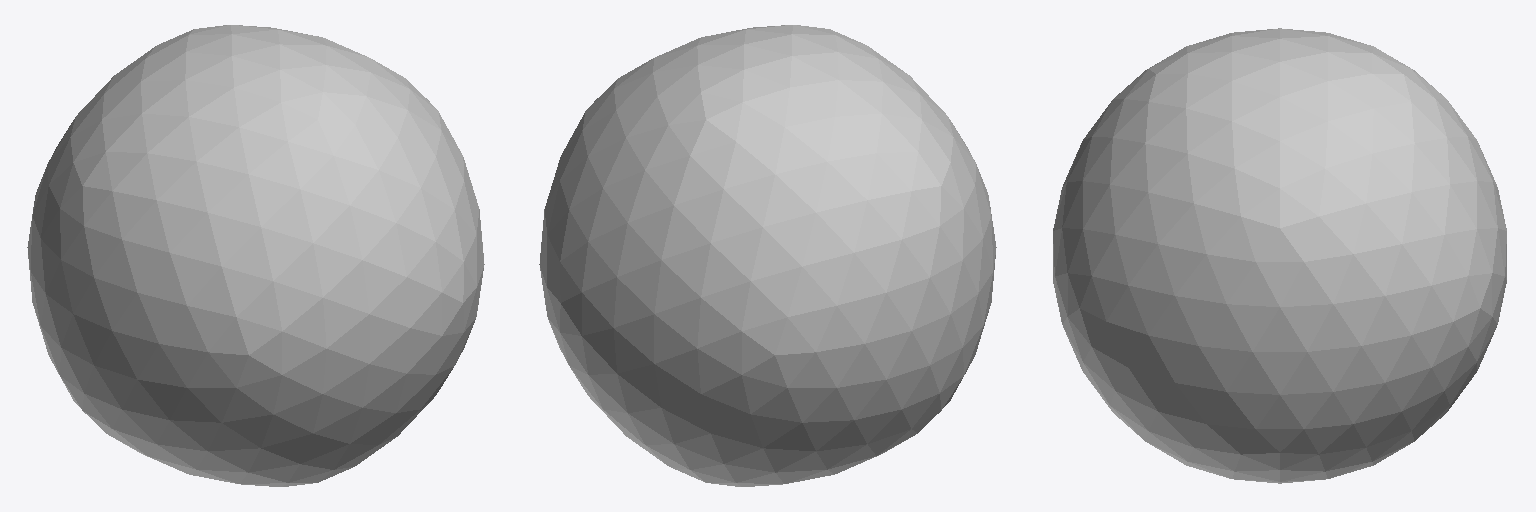
The model's file is sphere_smoothed_90.obj.
The picture shows the model from 3 angles: view 1: azimuth 30°, elevation 25°; view 2: azimuth 150°, elevation 25°; view 3: azimuth 270°, elevation 25°; orthographic projection.
Bounding box in the file's own units: 1.08 × 1.08 × 1.08.